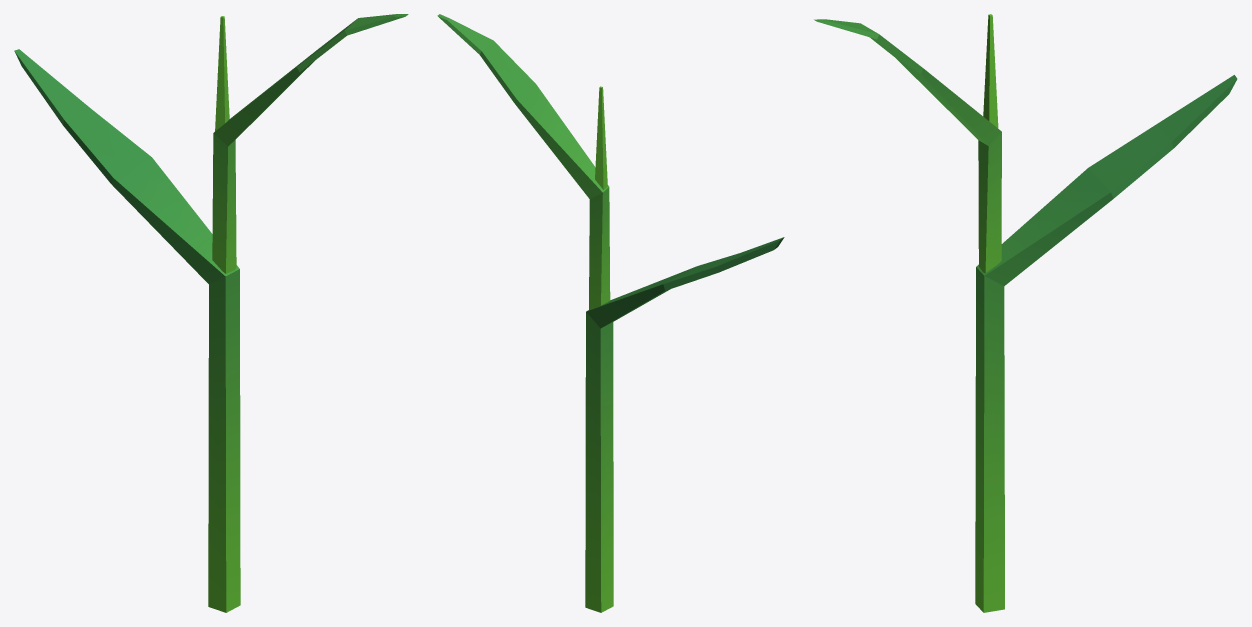
Rendered from corn1.glb.
The picture shows the model from 3 angles, left to right: view 1: azimuth 30°, elevation 25°; view 2: azimuth 210°, elevation 25°; view 3: azimuth 270°, elevation 25°; orthographic projection. The views are drawn at different scales.
Parts seen in each view (by area): view 1: Corn1; view 2: Corn1; view 3: Corn1.
Part boxes in pixels (x1=…): Corn1: x1=14, y1=14, x2=408, y2=612; Corn1: x1=437, y1=14, x2=784, y2=612; Corn1: x1=814, y1=14, x2=1237, y2=612.
Size of the model in its own units: 0.1467 by 0.4758 by 0.2889.
Materials: 1 (1 with a texture image).
